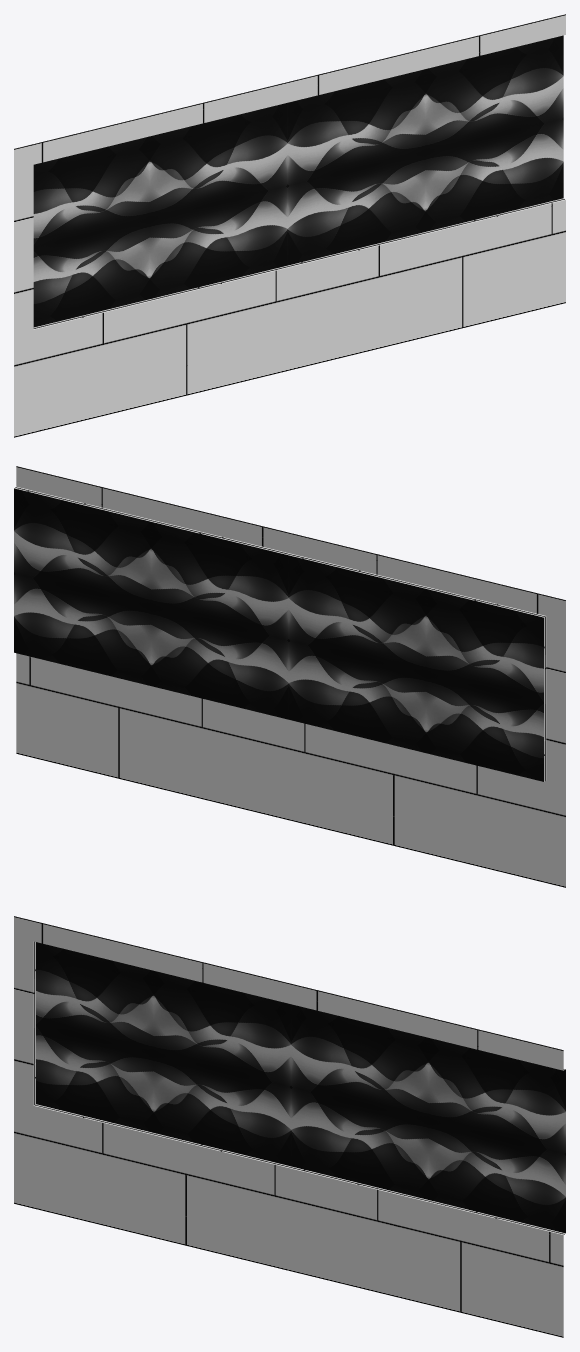
File: WallNiche01_6_700x350cm.FBX
3 renders of one model, top to bottom at view 1: azimuth 30°, elevation 25°; view 2: azimuth 150°, elevation 25°; view 3: azimuth 330°, elevation 25°, orthographic.
Visible parts, largest first — view 1: WallNiche01_6_700x350cm; view 2: WallNiche01_6_700x350cm; view 3: WallNiche01_6_700x350cm.
Boxes of the visible parts, bbox=[...] form: WallNiche01_6_700x350cm: bbox=[14, 14, 565, 437]; WallNiche01_6_700x350cm: bbox=[14, 466, 565, 887]; WallNiche01_6_700x350cm: bbox=[14, 916, 565, 1337].
Size of the model in its own units: 700 by 350 by 5.
